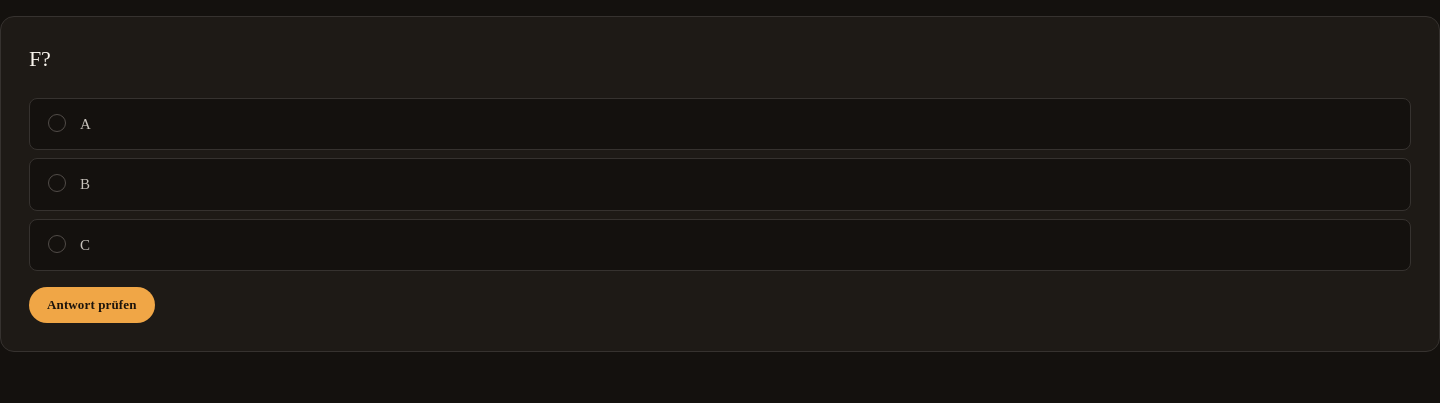
Test case: Interaktion (multiple choice) › genau alle korrekten -> Richtig
Click the button "A": coordinates (57, 123) [29, 98, 1411, 150]
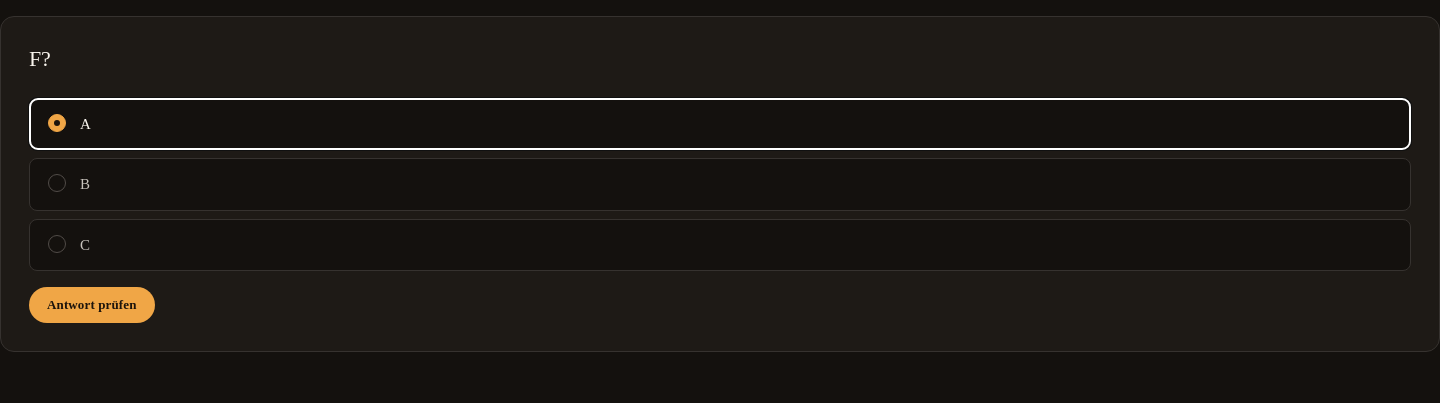
Click the button "B": coordinates (57, 183) [29, 158, 1411, 211]
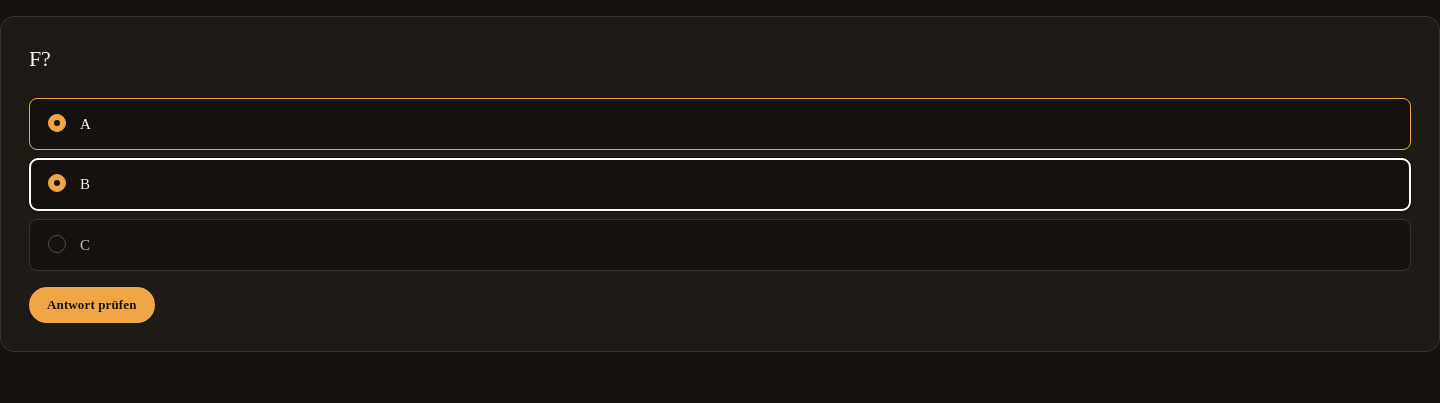
Click the button "Antwort prüfen": coordinates (92, 305) [29, 287, 155, 323]
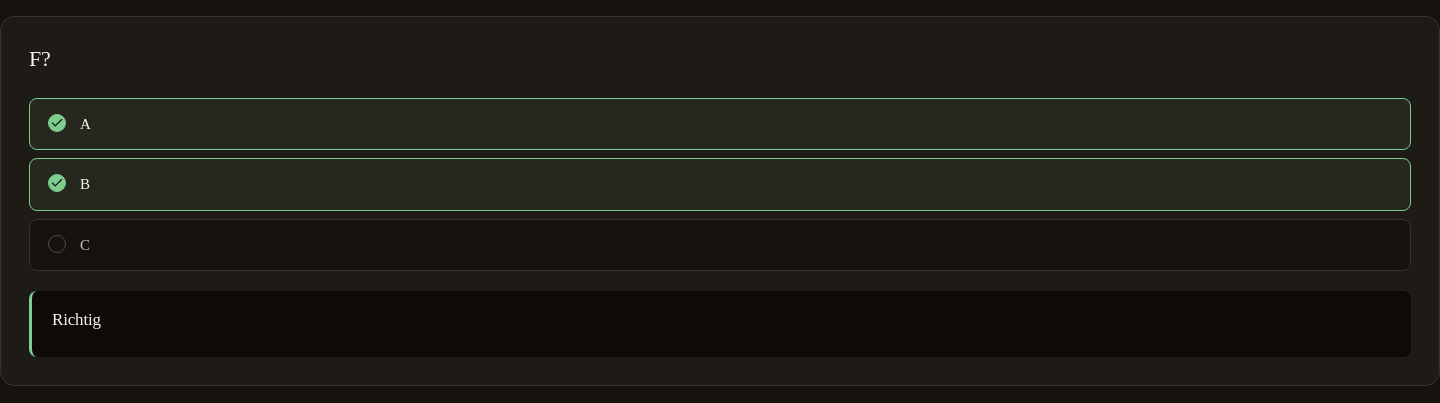
Result: the text "Richtig" is shown at [52, 310, 101, 329]
